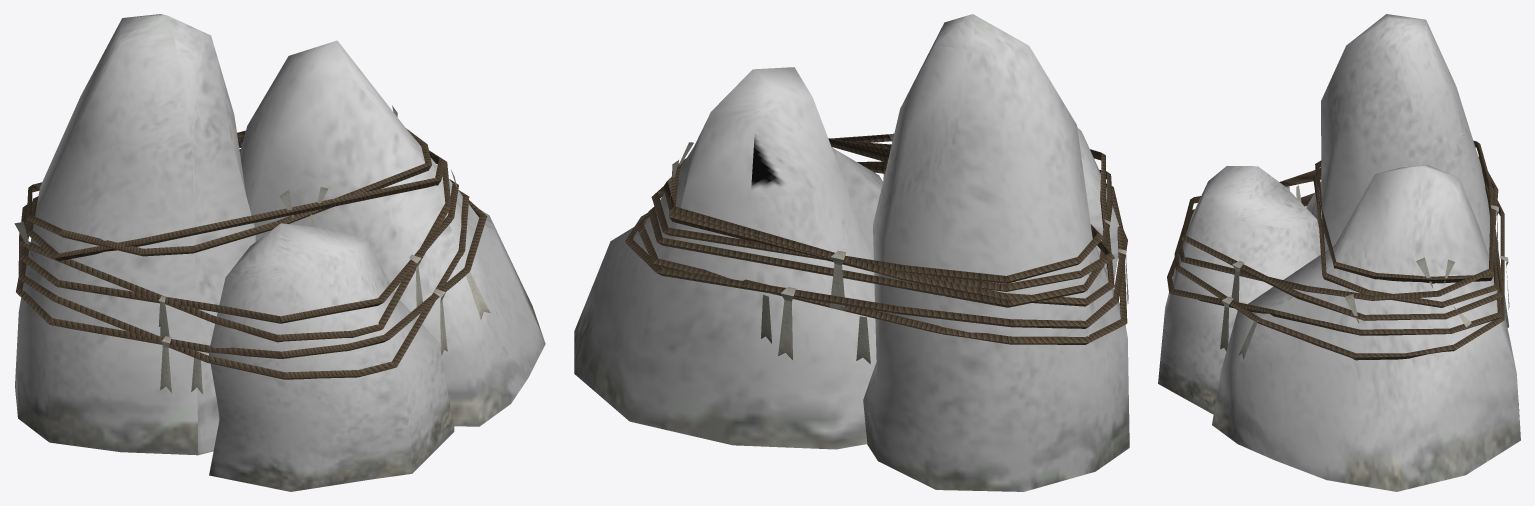
Rendered from shrine_rock_01.fbx.
3 renders of one model, left to right at view 1: azimuth 30°, elevation 25°; view 2: azimuth 150°, elevation 25°; view 3: azimuth 270°, elevation 25°, orthographic. The views are drawn at different scales.
Parts seen in each view (by area): view 1: Shrine_rock_01; view 2: Shrine_rock_01; view 3: Shrine_rock_01.
Boxes of the visible parts, x1,y1,x2,y2 form: Shrine_rock_01: (14,14,545,491); Shrine_rock_01: (574,14,1129,491); Shrine_rock_01: (1158,14,1520,491).
Bounding box in the file's own units: 7.97 × 5.84 × 5.95.
